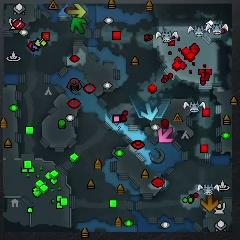x1: (158, 127, 173, 142)
x2: (69, 4, 87, 18)
x3: (140, 103, 158, 121)
x4: (71, 17, 86, 34)
x5: (201, 194, 218, 212)
